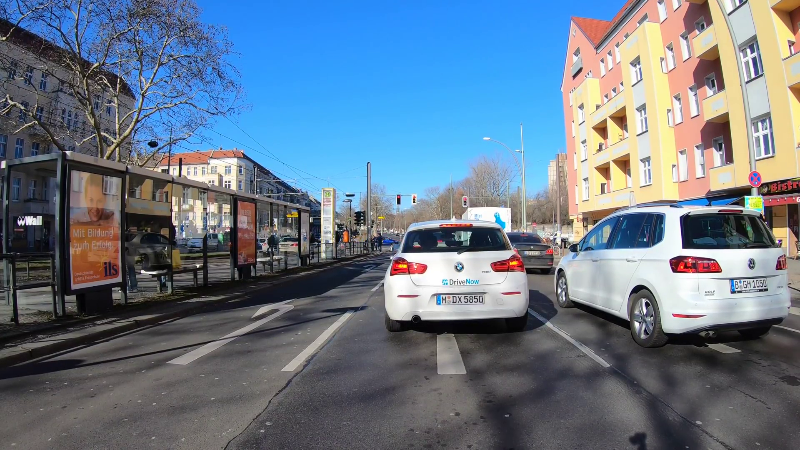Plate: (725, 275, 770, 292), (435, 291, 485, 305)
